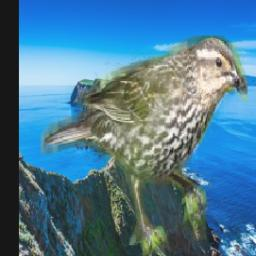Sparrow: (42, 36, 248, 256)
